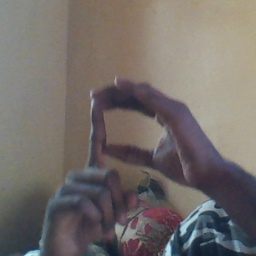P: (58, 75, 199, 233)
